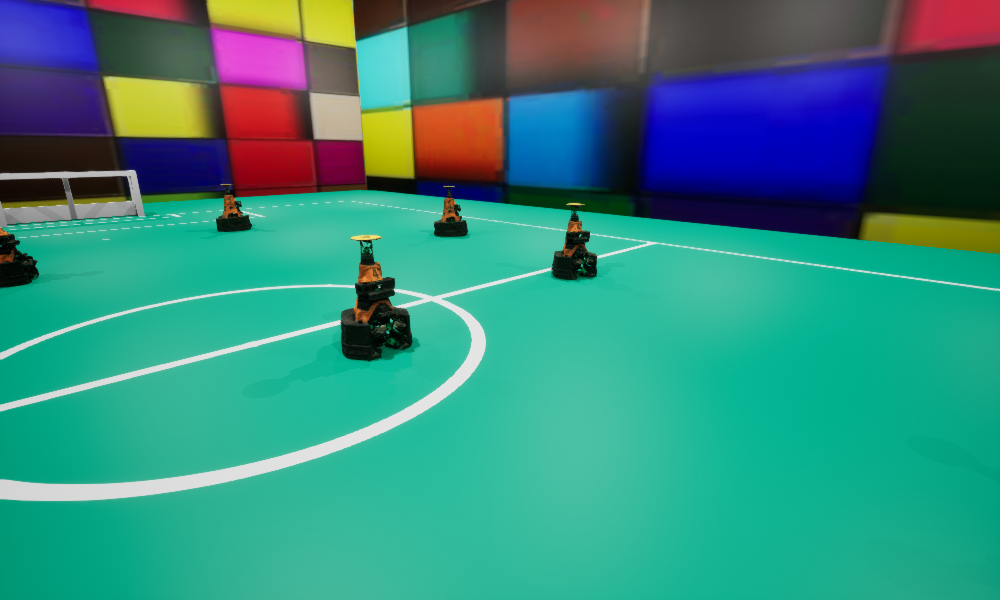0 orange robot TechUnited: (341, 235, 412, 360), (552, 203, 596, 279), (0, 228, 38, 287), (434, 186, 467, 236), (216, 184, 251, 231)
